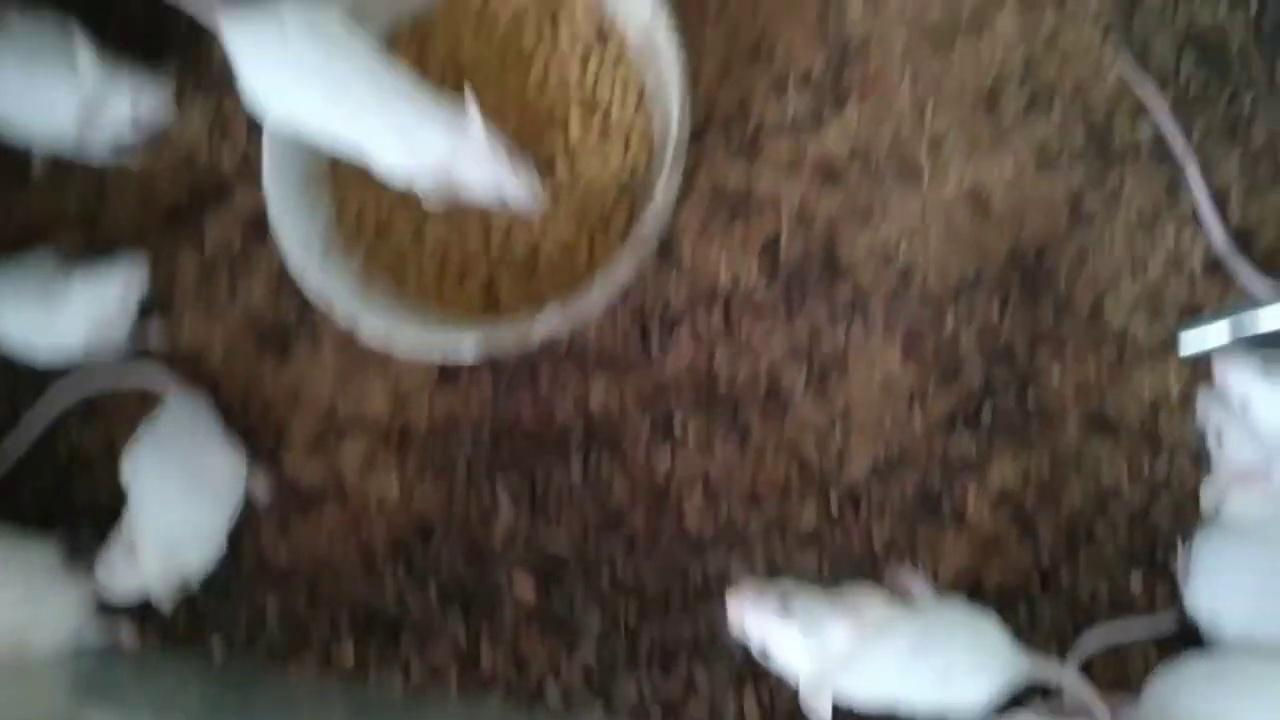rat: (170, 0, 550, 217), (726, 565, 1113, 720)
